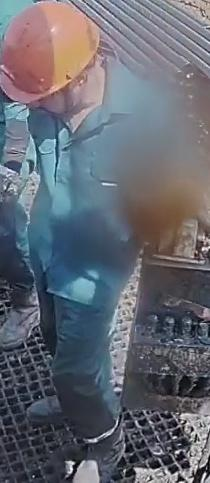gloves: (0, 158, 26, 226)
helmet: (0, 0, 100, 104)
vest: (26, 87, 175, 311)
